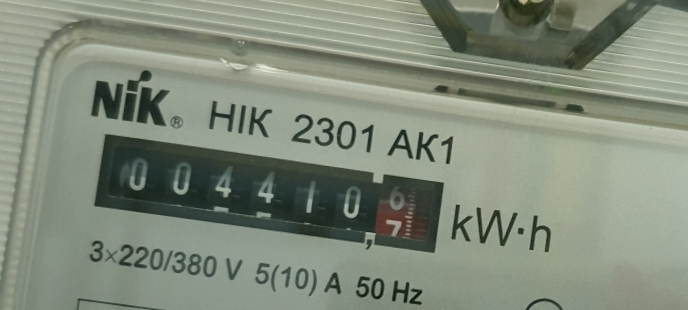0: (124, 153, 150, 193), (339, 182, 364, 221), (169, 157, 192, 197)
1: (300, 177, 318, 215)
4: (210, 159, 237, 200), (253, 166, 280, 207)
6: (387, 184, 408, 212)
7: (381, 216, 403, 238)
screen: (81, 120, 458, 266)
